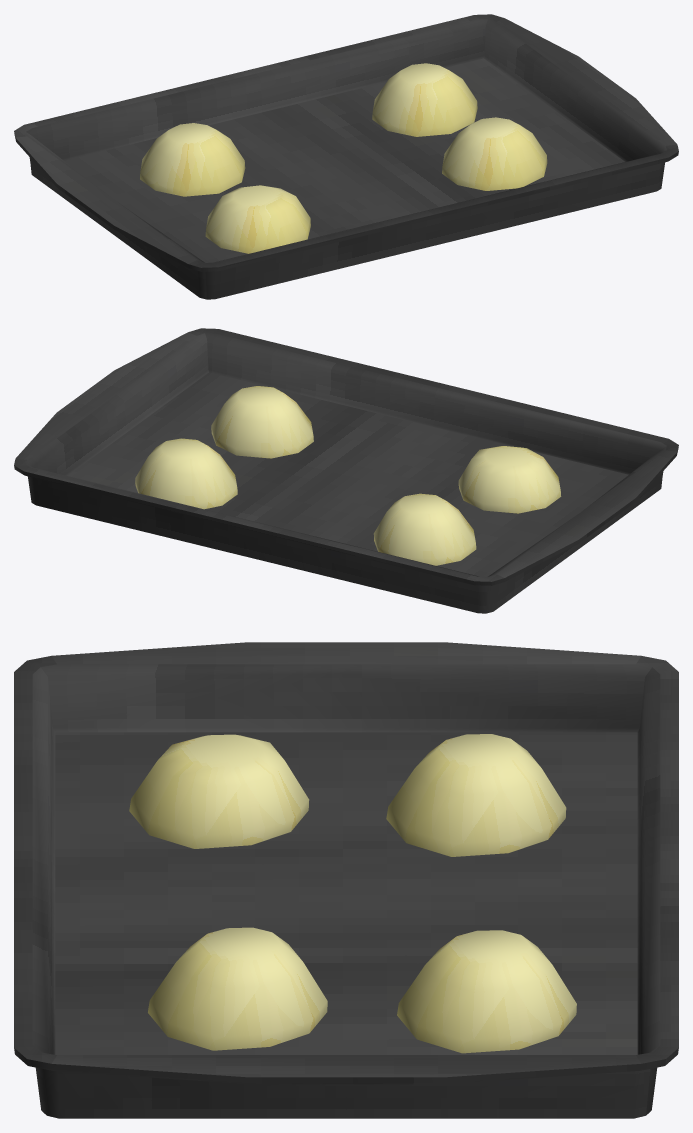
File: BakingTray_RoundGround.fbx
3 renders of one model, top to bottom at view 1: azimuth 30°, elevation 25°; view 2: azimuth 150°, elevation 25°; view 3: azimuth 270°, elevation 25°, orthographic. The views are drawn at different scales.
Parts seen in each view (by area): view 1: BakingTray_Cookies; view 2: BakingTray_Cookies; view 3: BakingTray_Cookies.
Part boxes in pixels (bbox=[...]): BakingTray_Cookies: bbox=[14, 14, 678, 299]; BakingTray_Cookies: bbox=[14, 328, 678, 613]; BakingTray_Cookies: bbox=[14, 642, 678, 1118].
Size of the model in its own units: 85.68 by 7.34 by 55.34.
